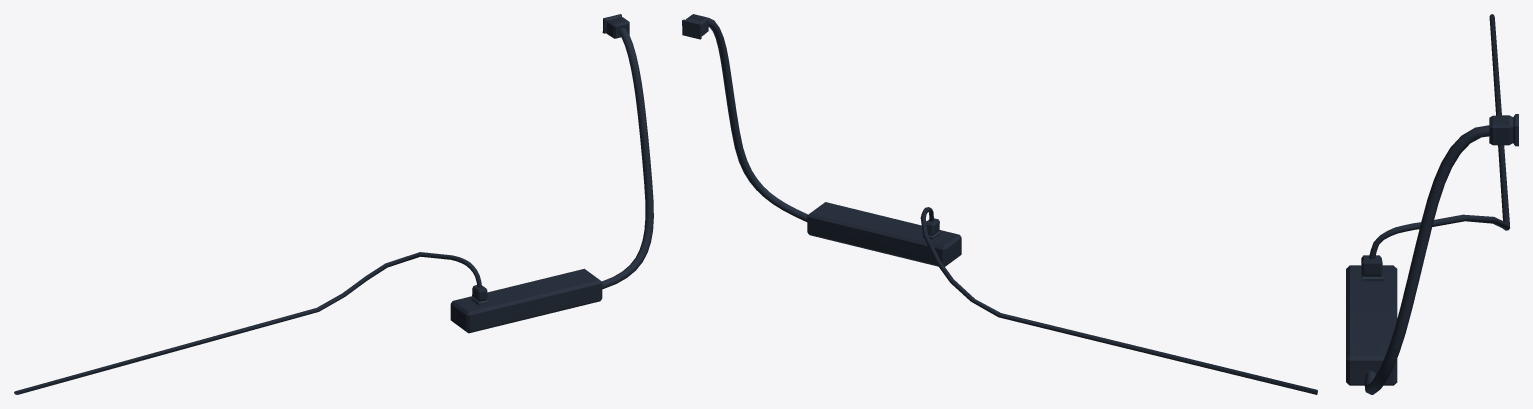
File: powercords.fbx
3 renders of one model, left to right at view 1: azimuth 30°, elevation 25°; view 2: azimuth 150°, elevation 25°; view 3: azimuth 270°, elevation 25°, orthographic. The views are drawn at different scales.
Parts seen in each view (by area): view 1: powercords; view 2: powercords; view 3: powercords.
Boxes of the visible parts, x1,y1,x2,y2 form: powercords: (14,14,653,394); powercords: (682,14,1317,394); powercords: (1346,14,1518,394).
Bounding box in the file's own units: 6.23 × 2.17 × 1.08.
